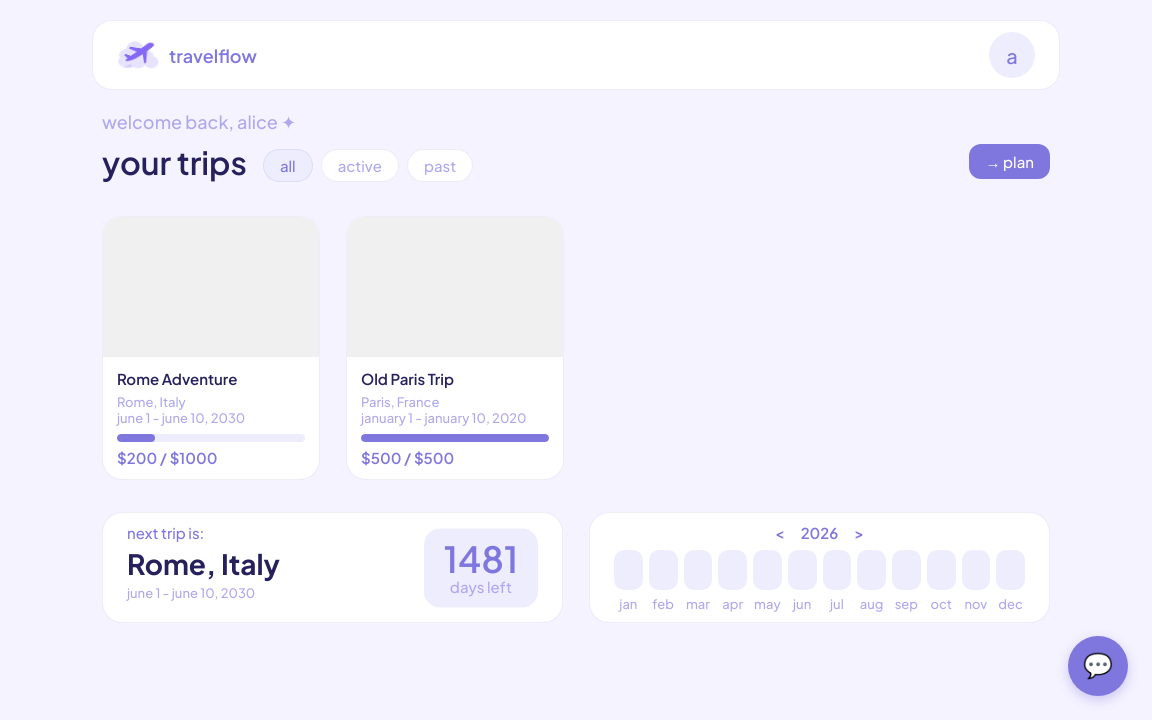
Test case: TripsPage › filter "past" shows only past trips
Check: the button "all" is shown, box [263, 149, 313, 182]
Click the button "past" at (440, 166), box [407, 149, 473, 182]
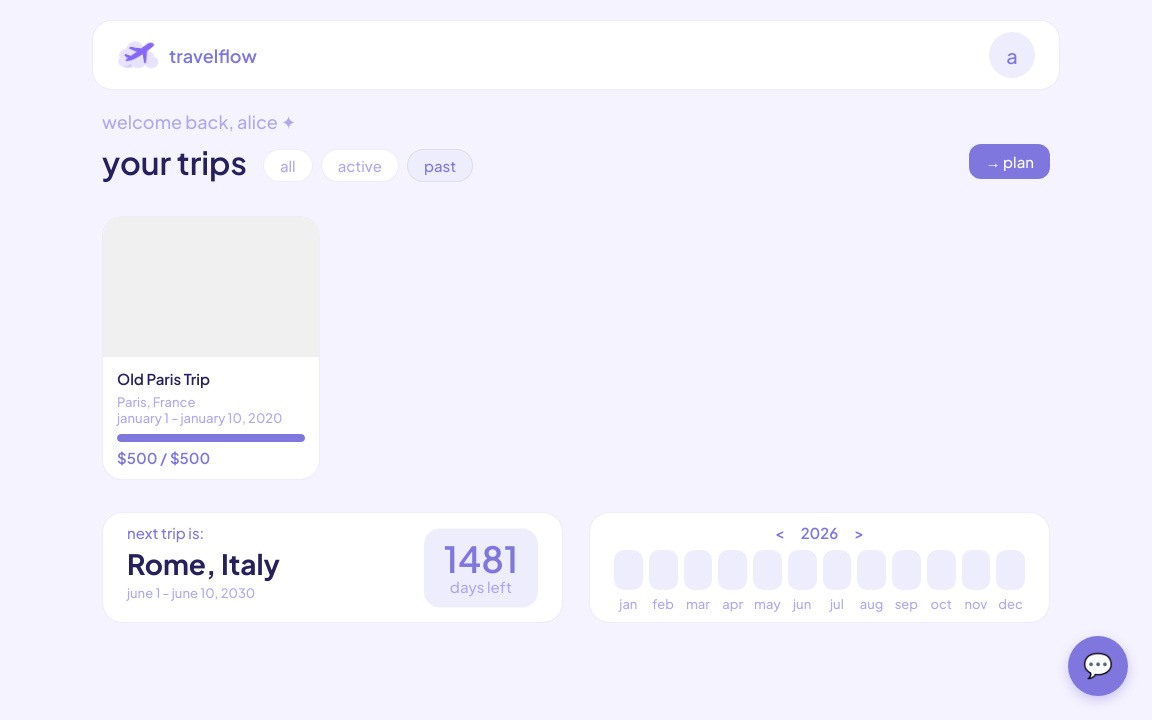
Check: the heading "Old Paris Trip" is shown, box [117, 369, 210, 388]
Check: the heading "Rome Adventure" is gone
